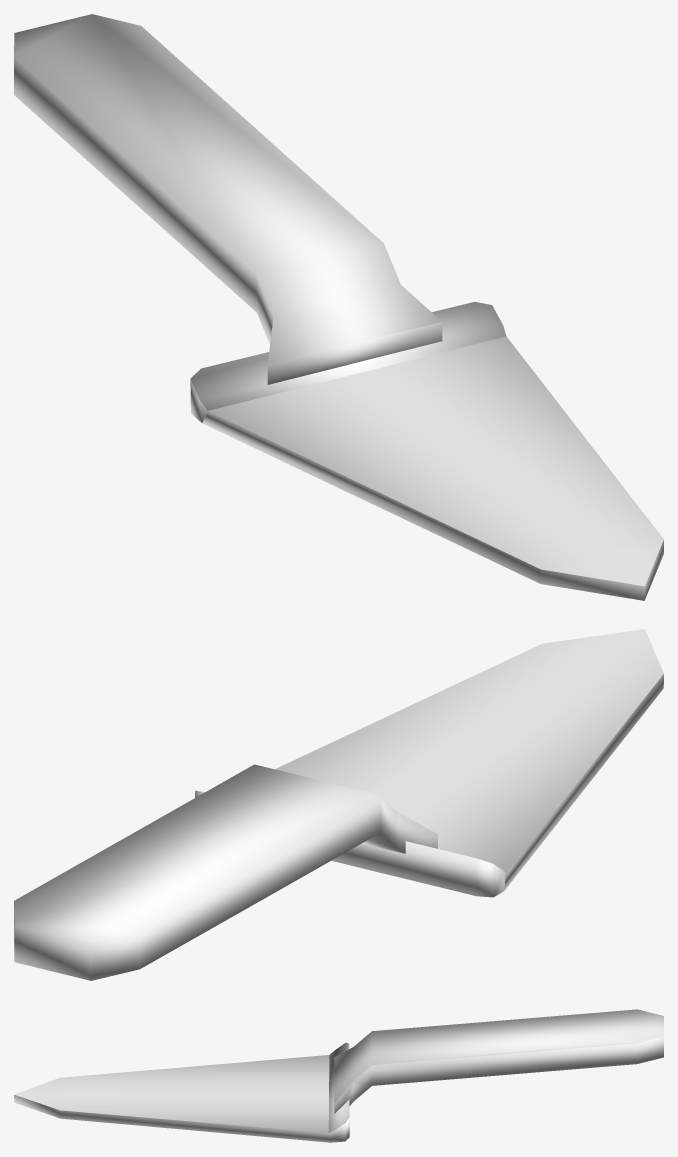
The model's file is Server.FBX.
3 renders of one model, top to bottom at view 1: azimuth 30°, elevation 25°; view 2: azimuth 150°, elevation 25°; view 3: azimuth 270°, elevation 25°, orthographic. The views are drawn at different scales.
Visible parts, largest first — view 1: Pie Server; view 2: Pie Server; view 3: Pie Server.
Boxes of the visible parts, <box> form: Pie Server: <box>14,14,663,600</box>; Pie Server: <box>14,629,663,980</box>; Pie Server: <box>14,1009,663,1142</box>.
Bounding box in the file's own units: 21.49 × 9.59 × 73.09.
